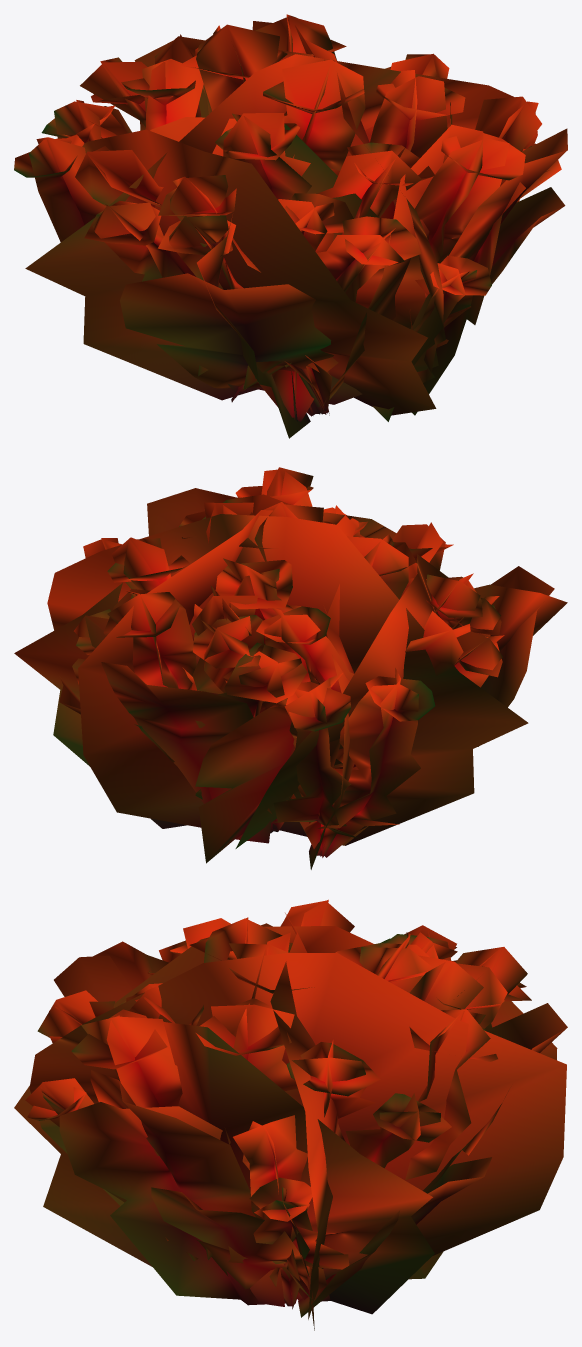
Rendered from RabbitBushRHEP_D.fbx.
3 renders of one model, top to bottom at view 1: azimuth 30°, elevation 25°; view 2: azimuth 150°, elevation 25°; view 3: azimuth 270°, elevation 25°, orthographic. The views are drawn at different scales.
Visible parts, largest first — view 1: RabbitBushRHEPD_LOD0; view 2: RabbitBushRHEPD_LOD0; view 3: RabbitBushRHEPD_LOD0.
Boxes of the visible parts, left/top/right/bottom form: RabbitBushRHEPD_LOD0: left=14, top=14, right=567, bottom=438; RabbitBushRHEPD_LOD0: left=14, top=467, right=567, bottom=869; RabbitBushRHEPD_LOD0: left=14, top=899, right=567, bottom=1330.
Size of what is drawn, in the model's own units: 1.84 by 1.17 by 1.69.
